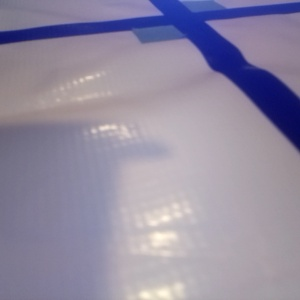bottom_right: (144, 36, 230, 83)
top_left: (39, 107, 166, 197)
